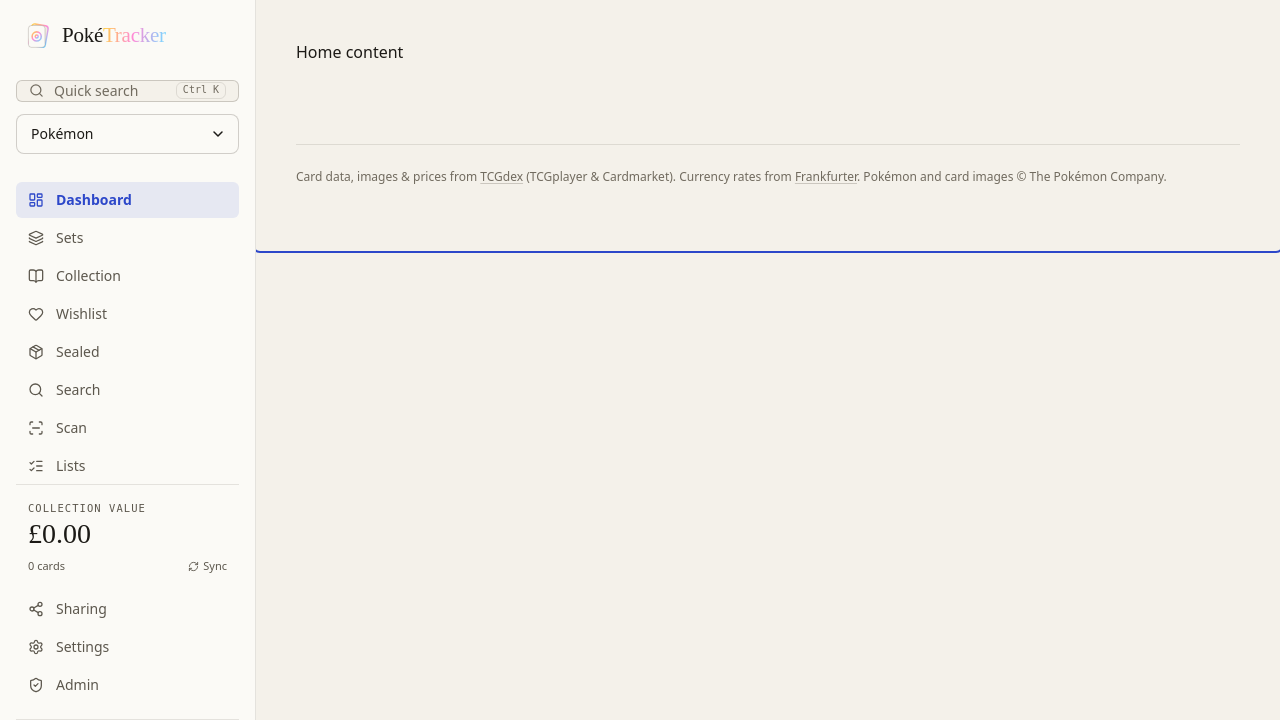
Test: Layout › navigates with the nav links and marks the active one
This screenshot has width=1280, height=720.
Click the link "Sets".
click(56, 237)  # box left=28, top=228, right=83, bottom=246
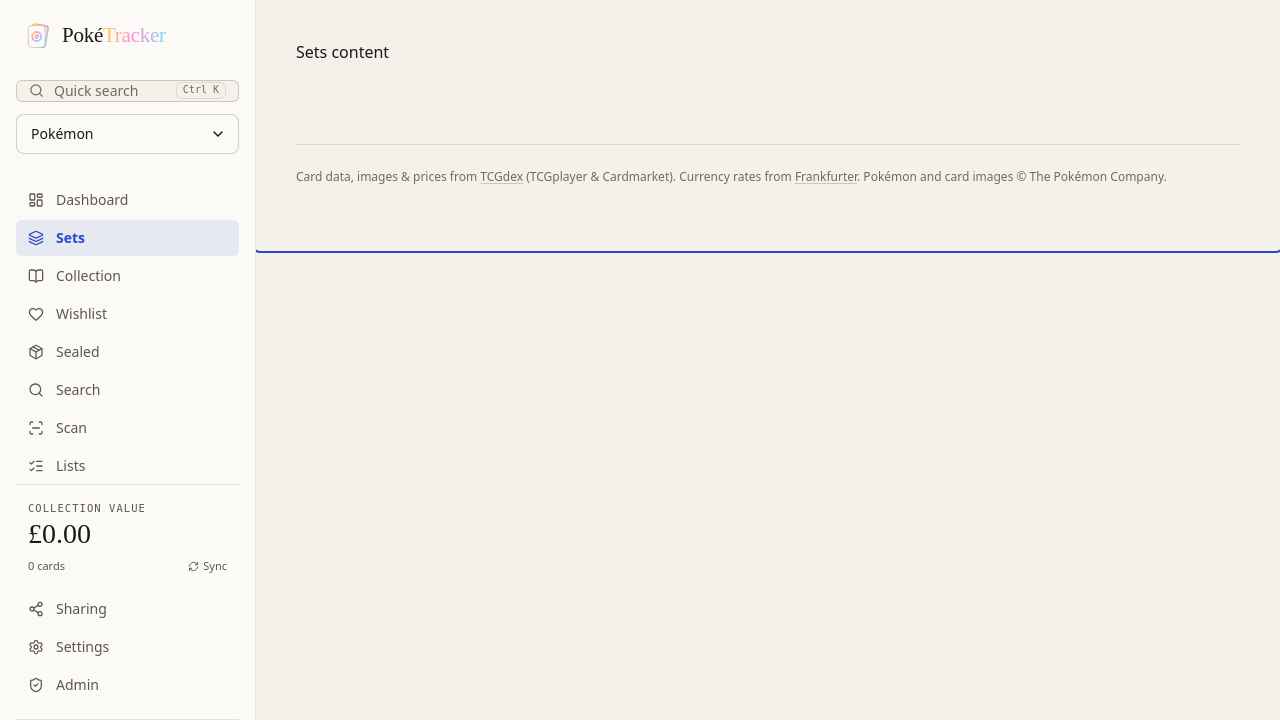
Check: the text "Sets content" is shown, box left=296, top=41, right=389, bottom=63
